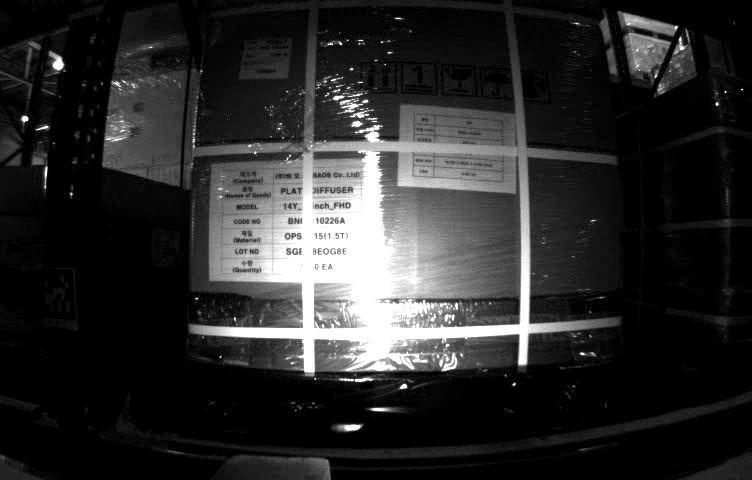True Barcode: (242, 38, 292, 79)
